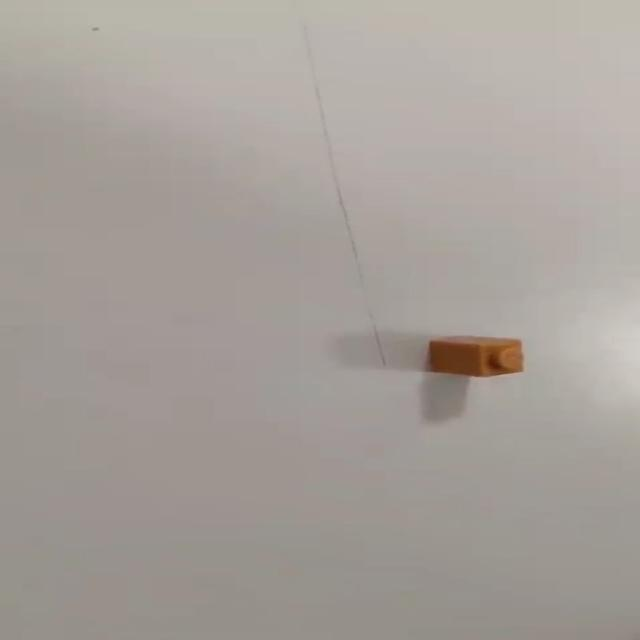C1x1x1: (426, 334, 523, 377)
